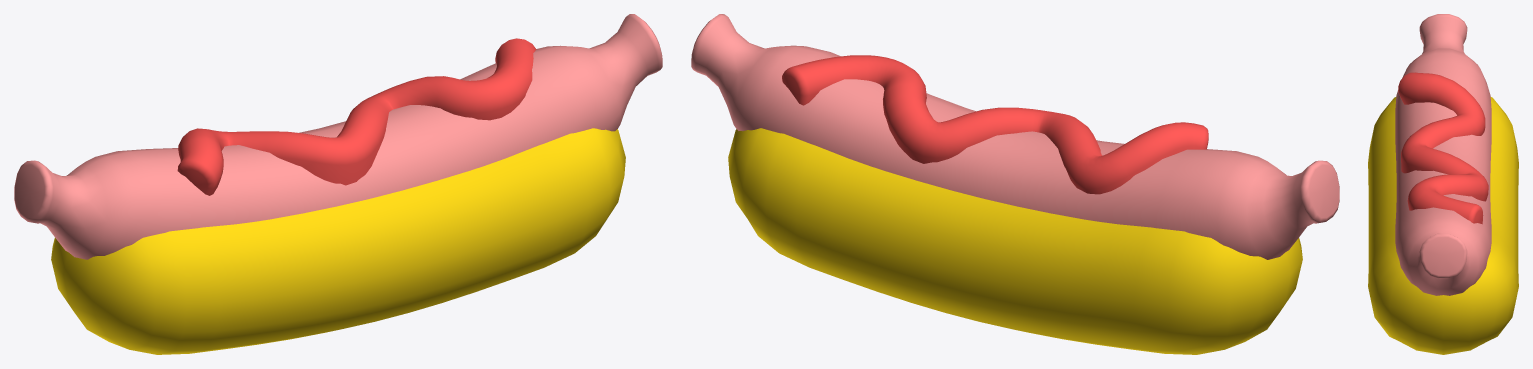
The model's file is Store_12_Hot_Dog_5.glb.
The picture shows the model from 3 angles, left to right: view 1: azimuth 30°, elevation 25°; view 2: azimuth 150°, elevation 25°; view 3: azimuth 270°, elevation 25°; orthographic projection. The views are drawn at different scales.
Parts seen in each view (by area): view 1: Store_12_Hot_Dog_5; view 2: Store_12_Hot_Dog_5; view 3: Store_12_Hot_Dog_5.
Boxes of the visible parts, x1,y1,x2,y2 form: Store_12_Hot_Dog_5: (14,14,662,354); Store_12_Hot_Dog_5: (691,14,1339,354); Store_12_Hot_Dog_5: (1368,14,1518,354).
Bounding box in the file's own units: 0.7034 × 0.2409 × 0.1945.
1 material, 1 textured.
